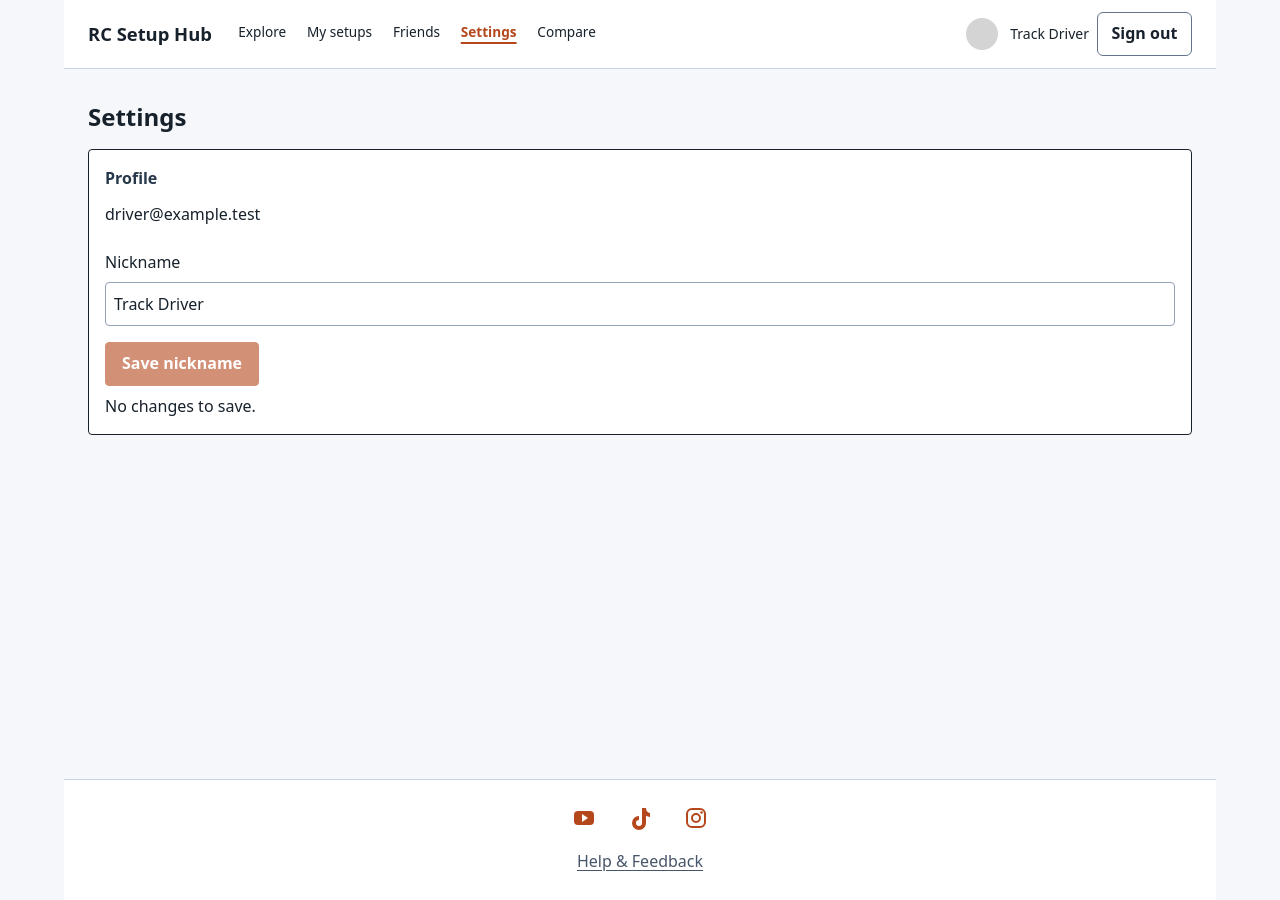
it: handles PATCH 400 and supports retry
Replace the text in the field labelled "Nickname" with "Changed" at (640, 304), box left=105, top=282, right=1175, bottom=326
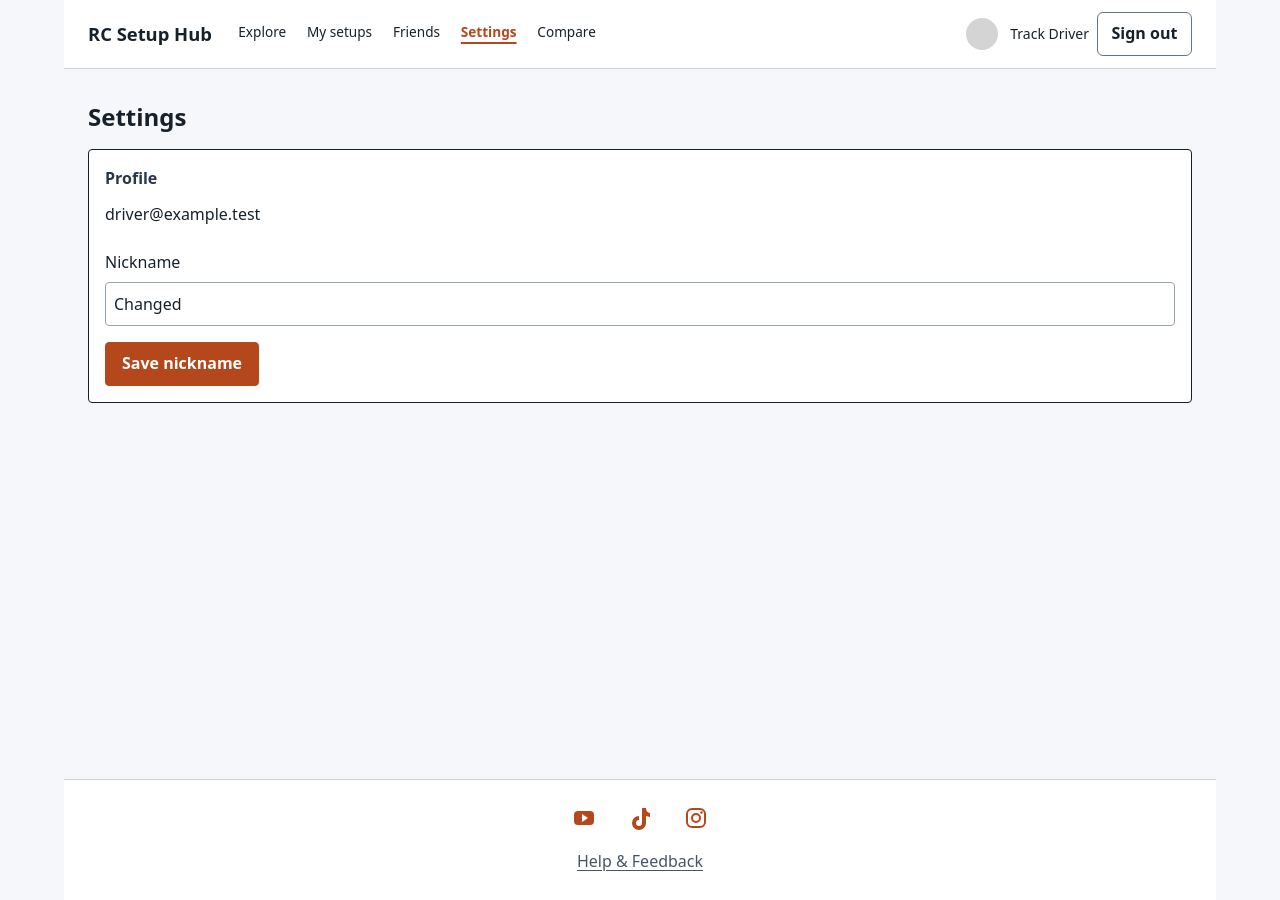
Click the button "Save nickname".
click(182, 364)  # box left=105, top=342, right=259, bottom=386
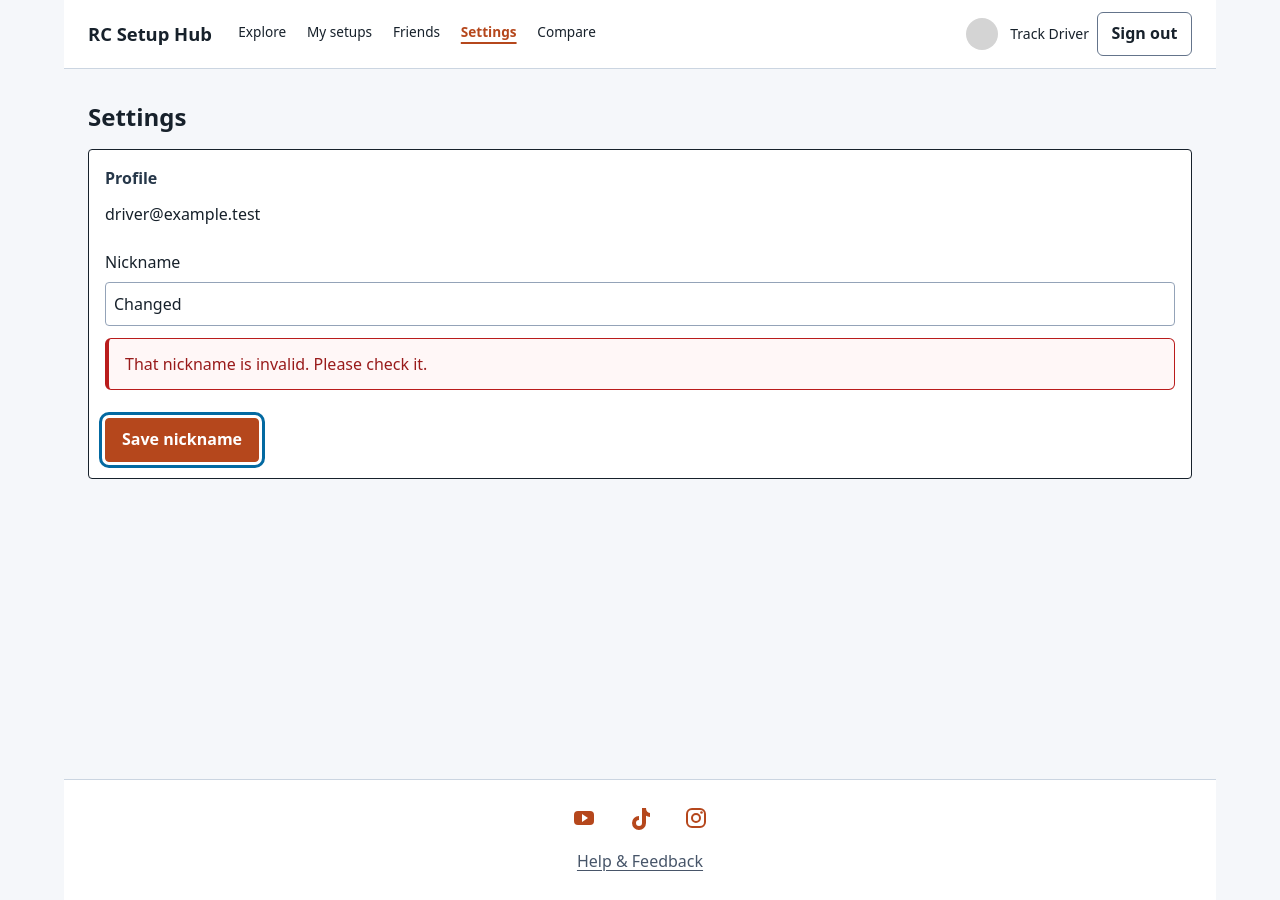
Check: the text "Track Driver" is shown, box left=1010, top=24, right=1089, bottom=44
Check: the message shows "That nickname is invalid.", box left=125, top=353, right=427, bottom=375
Click the button "Save nickname".
click(182, 440)  # box left=105, top=418, right=259, bottom=462
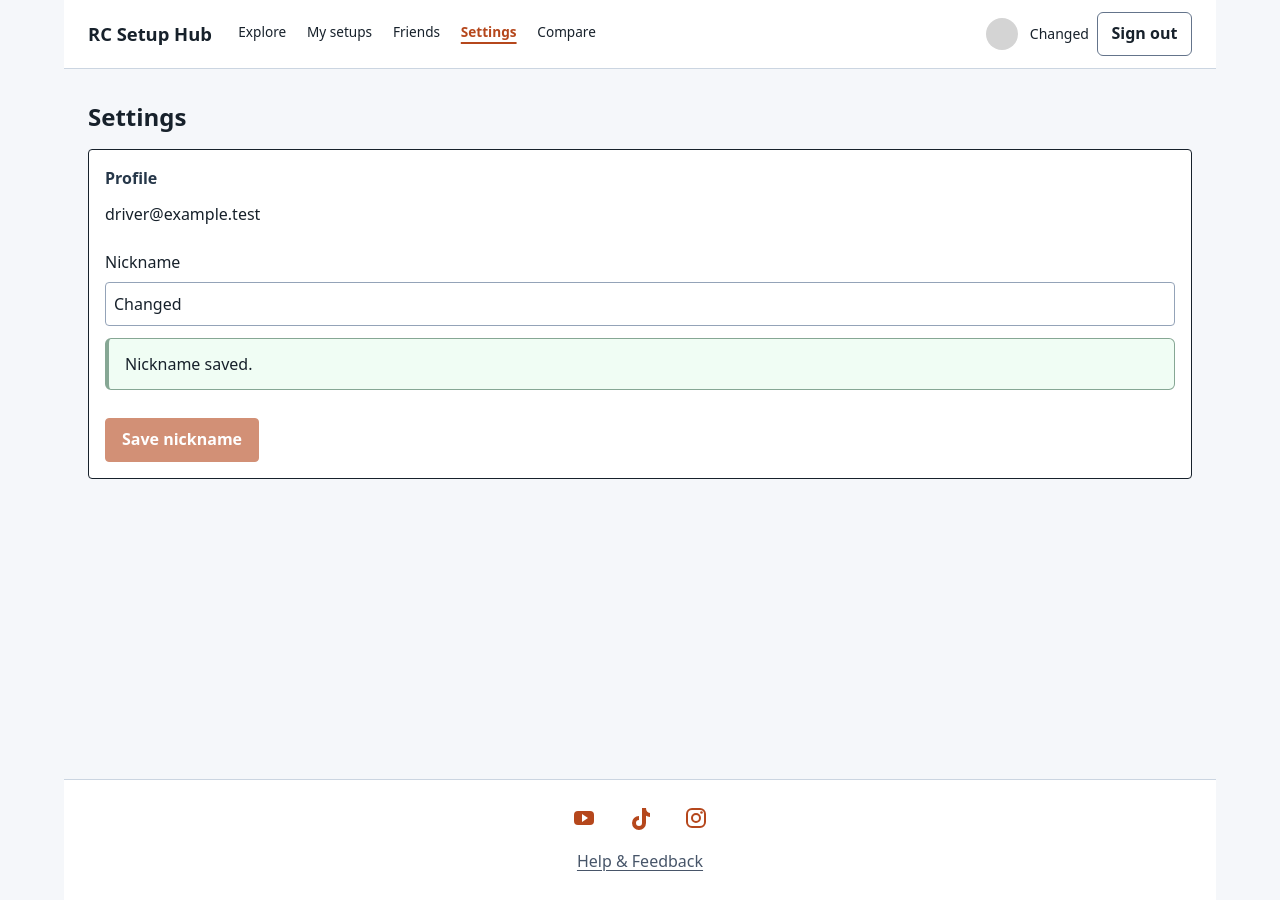
Check: the text "Changed" is shown, box left=1030, top=24, right=1089, bottom=44
